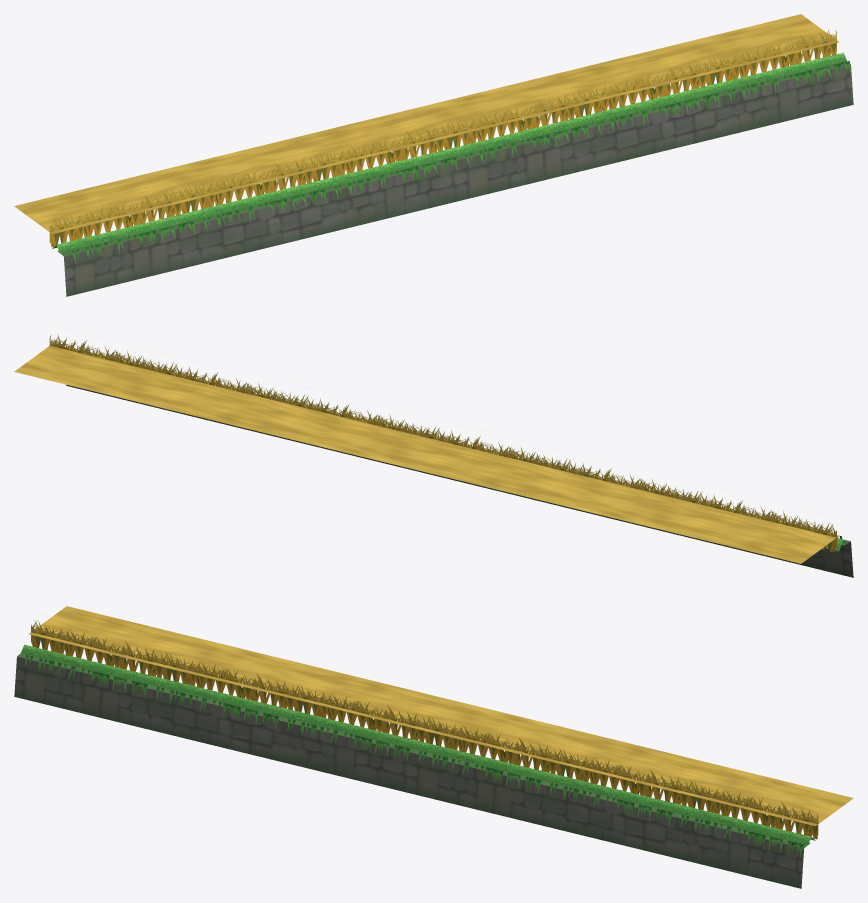
File: terrace_straight_ripe_far24.glb
3 views of the same model, one above another, from view 1: azimuth 30°, elevation 25°; view 2: azimuth 150°, elevation 25°; view 3: azimuth 330°, elevation 25° (orthographic).
Visible parts, largest first — view 1: terrace_straight_ripe_far24_cards, terrace_straight_ripe_far24_wall, terrace_straight_ripe_far24_dike; view 2: terrace_straight_ripe_far24_cards, terrace_straight_ripe_far24_wall; view 3: terrace_straight_ripe_far24_cards, terrace_straight_ripe_far24_wall, terrace_straight_ripe_far24_dike.
Boxes of the visible parts, x1,y1,x2,y2 form: terrace_straight_ripe_far24_cards: (14,14,851,262); terrace_straight_ripe_far24_wall: (57,61,853,296); terrace_straight_ripe_far24_dike: (52,52,846,252); terrace_straight_ripe_far24_cards: (14,335,842,563); terrace_straight_ripe_far24_wall: (66,384,853,577); terrace_straight_ripe_far24_cards: (25,606,853,858); terrace_straight_ripe_far24_wall: (14,653,810,888); terrace_straight_ripe_far24_dike: (21,644,815,844).
Size of the model in its own units: 24 by 2.13 by 2.79.
Materials: 3 (3 with a texture image).
